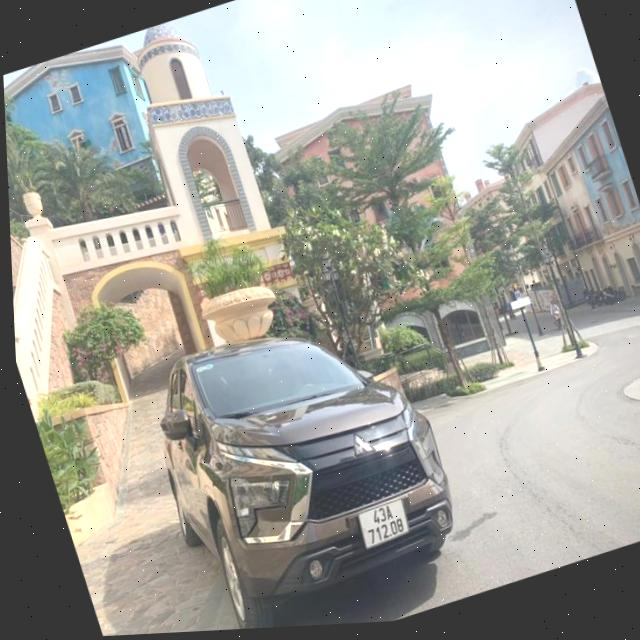car: (128, 283, 487, 634)
plate: (348, 491, 416, 554)
